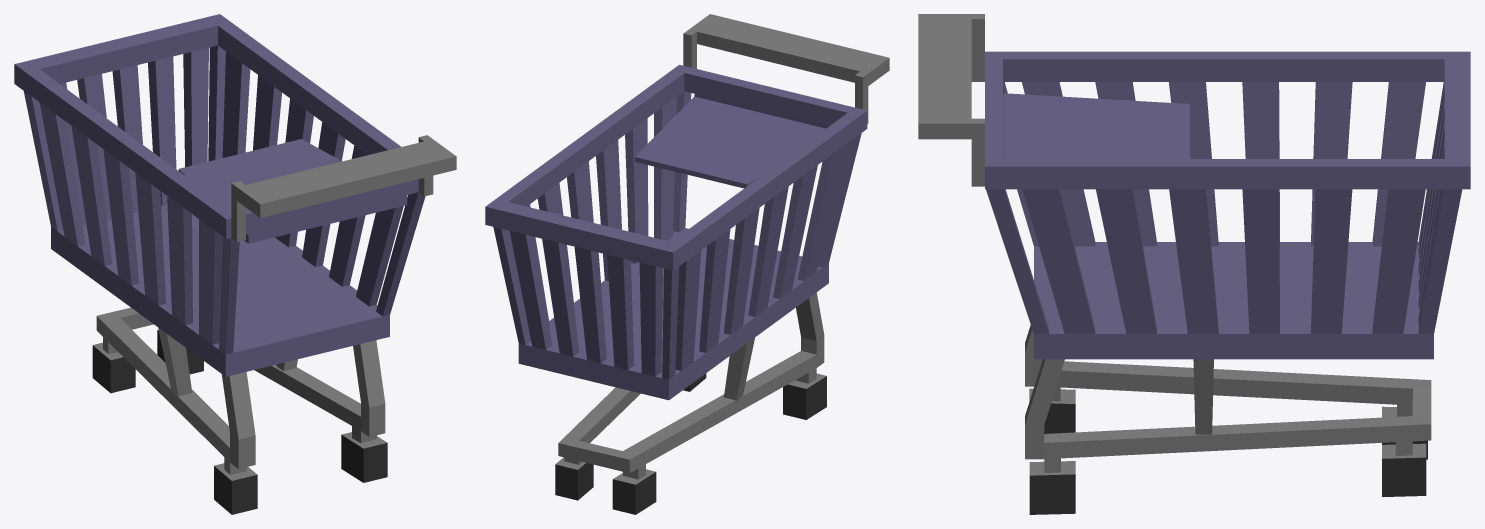
The model's file is S.ShoppingCart.fbx.
3 renders of one model, left to right at view 1: azimuth 30°, elevation 25°; view 2: azimuth 150°, elevation 25°; view 3: azimuth 270°, elevation 25°, orthographic. The views are drawn at different scales.
Visible parts, largest first — view 1: ShoppingCartFlapOpen; view 2: ShoppingCartFlapOpen; view 3: ShoppingCartFlapOpen.
Boxes of the visible parts, x1,y1,x2,y2 form: ShoppingCartFlapOpen: [14, 14, 456, 514]; ShoppingCartFlapOpen: [485, 14, 889, 514]; ShoppingCartFlapOpen: [918, 14, 1470, 514].
Bounding box in the file's own units: 156 × 255 × 317.
